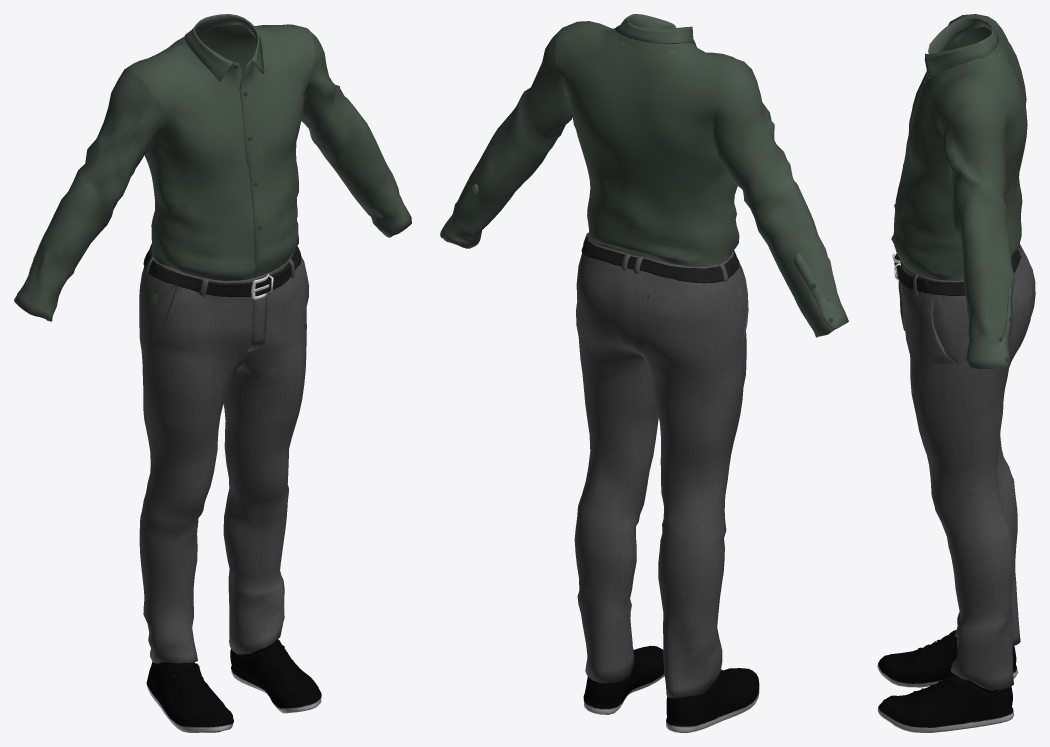
The model's file is outfit_4.fbx.
The picture shows the model from 3 angles, left to right: view 1: azimuth 30°, elevation 25°; view 2: azimuth 150°, elevation 25°; view 3: azimuth 270°, elevation 25°; orthographic projection. The views are drawn at different scales.
Parts seen in each view (by area): view 1: outfit_4; view 2: outfit_4; view 3: outfit_4.
Part boxes in pixels (x1,y1,x2,y2): outfit_4: (14, 14, 411, 732); outfit_4: (440, 14, 848, 732); outfit_4: (877, 14, 1035, 732).
Bounding box in the file's own units: 96.56 × 159 × 33.82.
